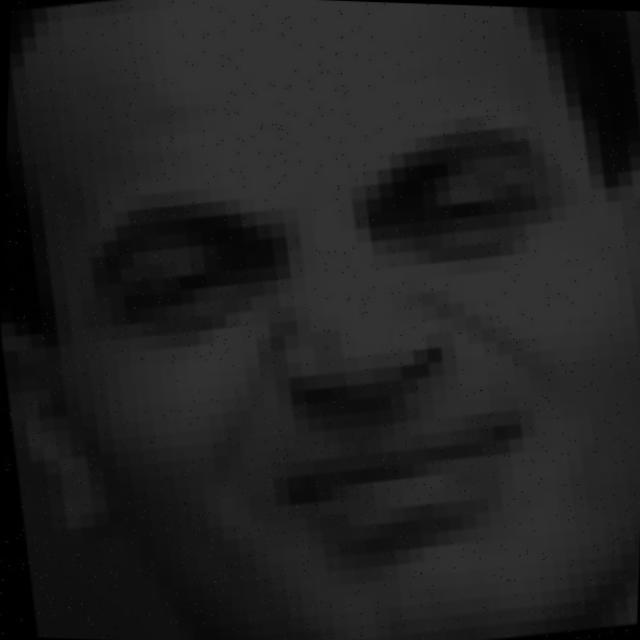Disgust: (49, 89, 620, 580)
